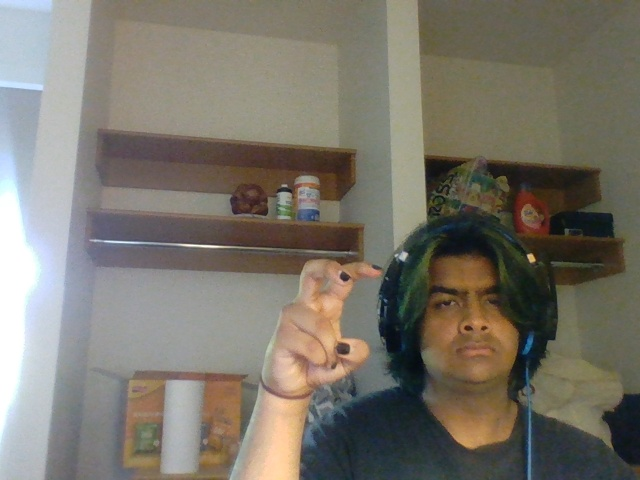z: (267, 254, 384, 393)
